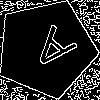A: (21, 24, 79, 81)
